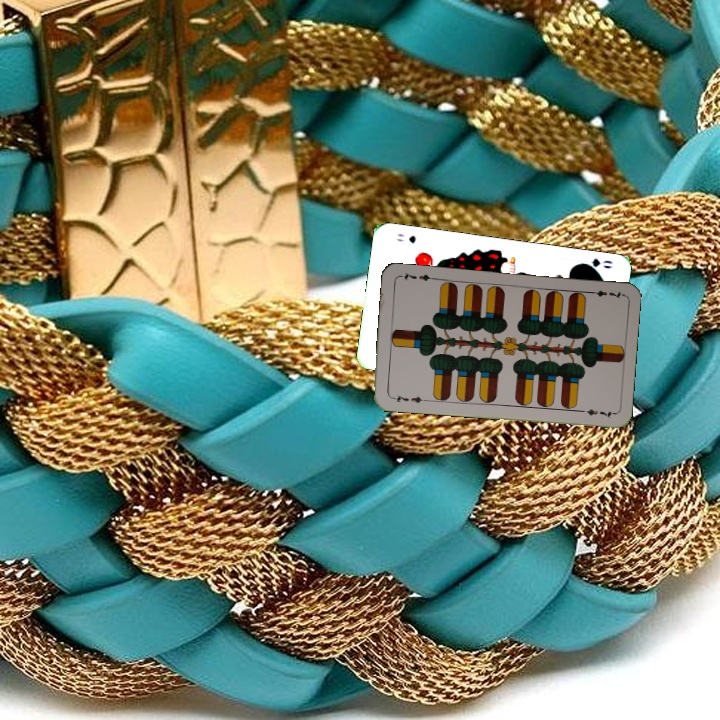E7: (387, 391, 428, 406), (584, 286, 625, 301)
GO: (574, 254, 615, 274)
